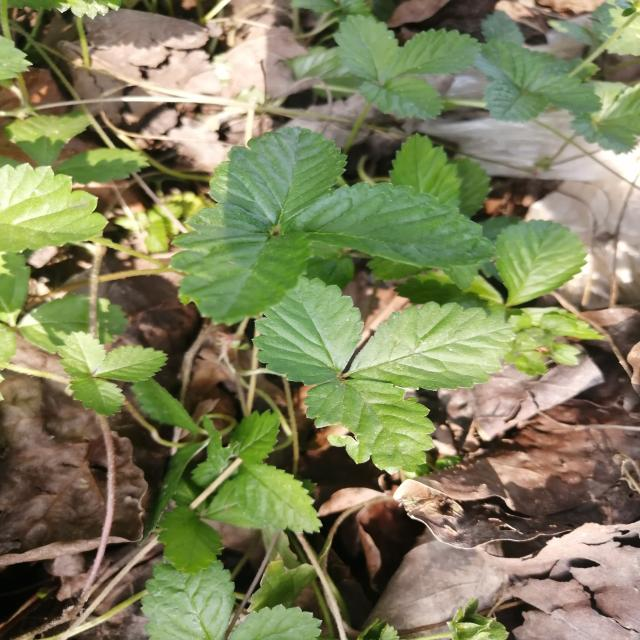Mock_strawberry: (165, 123, 512, 318)
